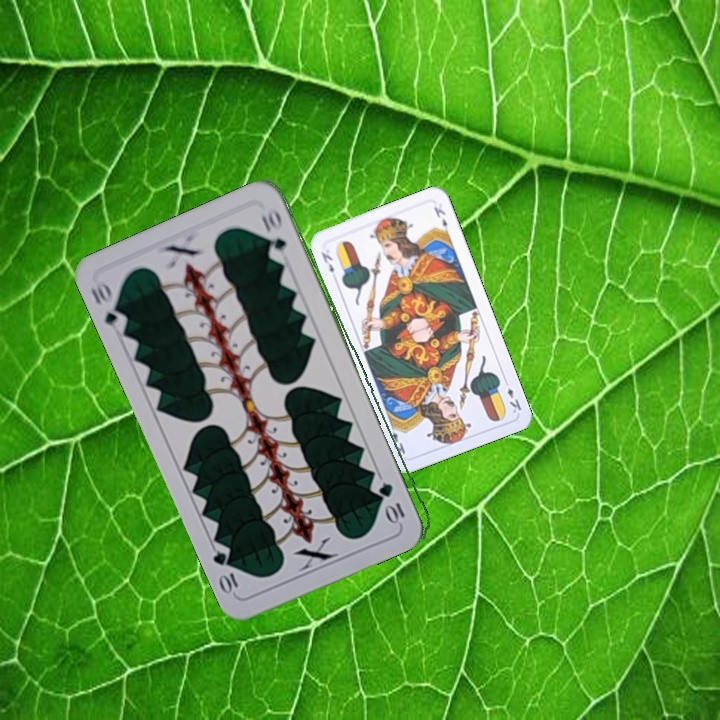EK: (500, 376, 524, 416), (317, 248, 336, 275)
G10: (86, 279, 131, 335), (377, 477, 408, 525)
